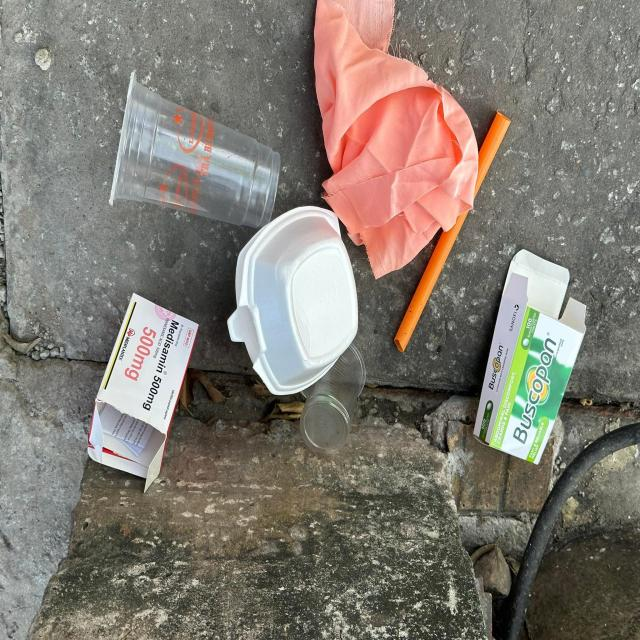cardboard box: (474, 248, 586, 466), (88, 292, 199, 493)
clothes: (314, 0, 479, 281)
drinking straw: (395, 110, 512, 352)
foam box: (227, 205, 358, 396)
plastic glass: (108, 70, 280, 227), (298, 341, 367, 454)
